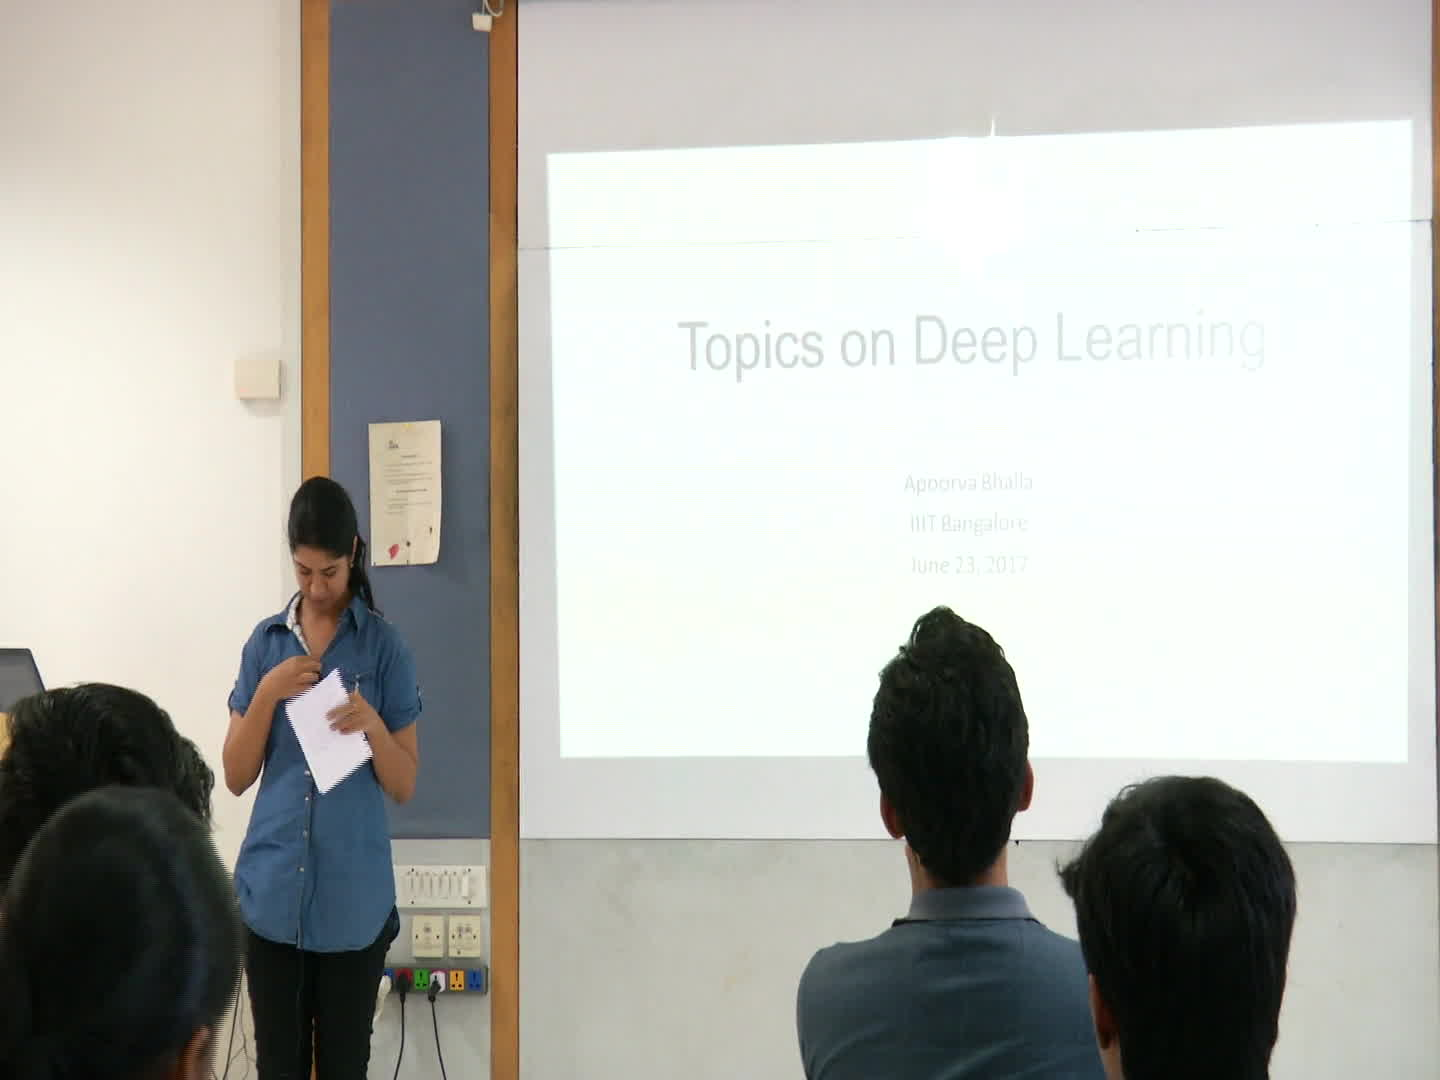slide: (548, 120, 1413, 763)
